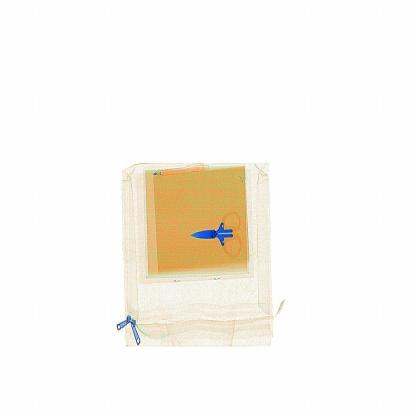gun: (183, 204, 261, 272)
